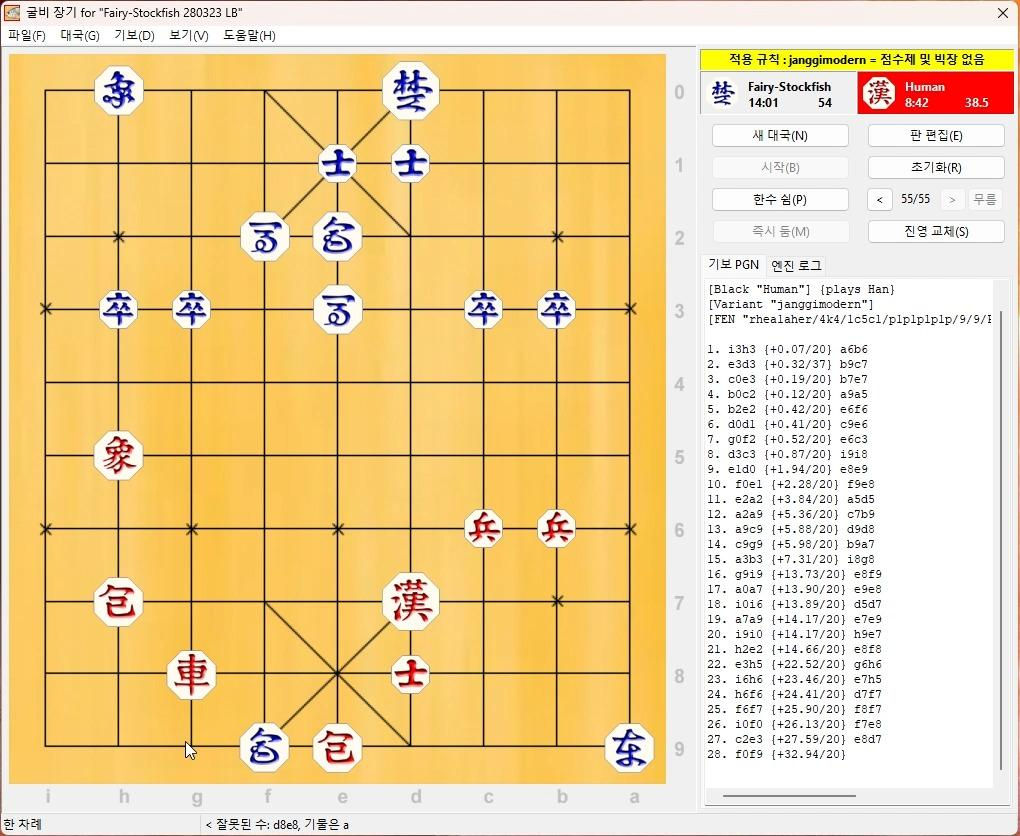cha_green: (607, 723, 654, 773)
cha_red: (168, 653, 218, 698)
jol_green: (465, 291, 504, 328), (536, 292, 576, 328), (172, 292, 211, 328), (98, 292, 136, 327)
jol_red: (464, 509, 500, 551), (537, 512, 579, 547)
ma_green: (240, 217, 289, 263), (317, 288, 365, 332)
po_green: (237, 724, 288, 769), (315, 214, 364, 259)
po_red: (315, 725, 363, 770), (95, 581, 144, 625)
sa_green: (319, 144, 358, 183), (391, 148, 431, 182)
sa_red: (391, 658, 430, 692)
sang_green: (95, 68, 144, 114)
sang_red: (94, 433, 144, 478)
wang_green: (382, 63, 439, 117)
wang_red: (383, 571, 443, 629)
